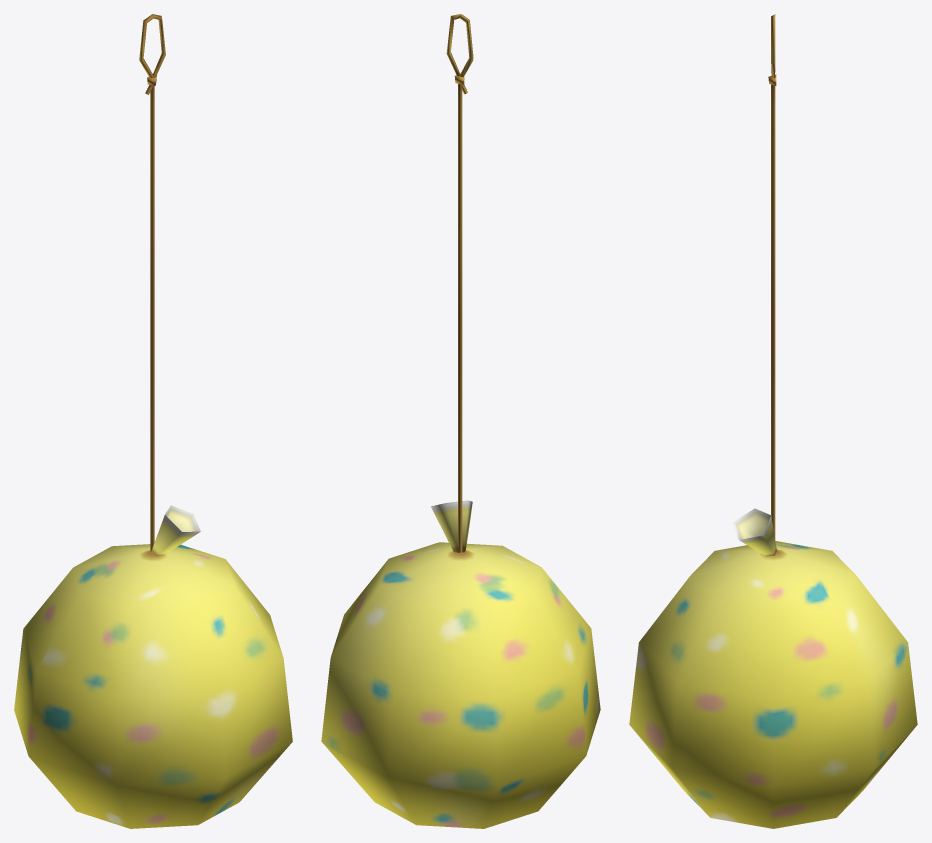
File: jsf_WaterBalloon_16_a.fbx
The picture shows the model from 3 angles, left to right: view 1: azimuth 30°, elevation 25°; view 2: azimuth 150°, elevation 25°; view 3: azimuth 270°, elevation 25°; orthographic projection.
Visible parts, largest first — view 1: jsf_WaterBalloon_16_a; view 2: jsf_WaterBalloon_16_a; view 3: jsf_WaterBalloon_16_a.
Part boxes in pixels (<box>): jsf_WaterBalloon_16_a: <box>14,14,292,828</box>; jsf_WaterBalloon_16_a: <box>321,14,600,828</box>; jsf_WaterBalloon_16_a: <box>629,14,917,828</box>.
Bounding box in the file's own units: 10.92 × 33.54 × 10.92.
